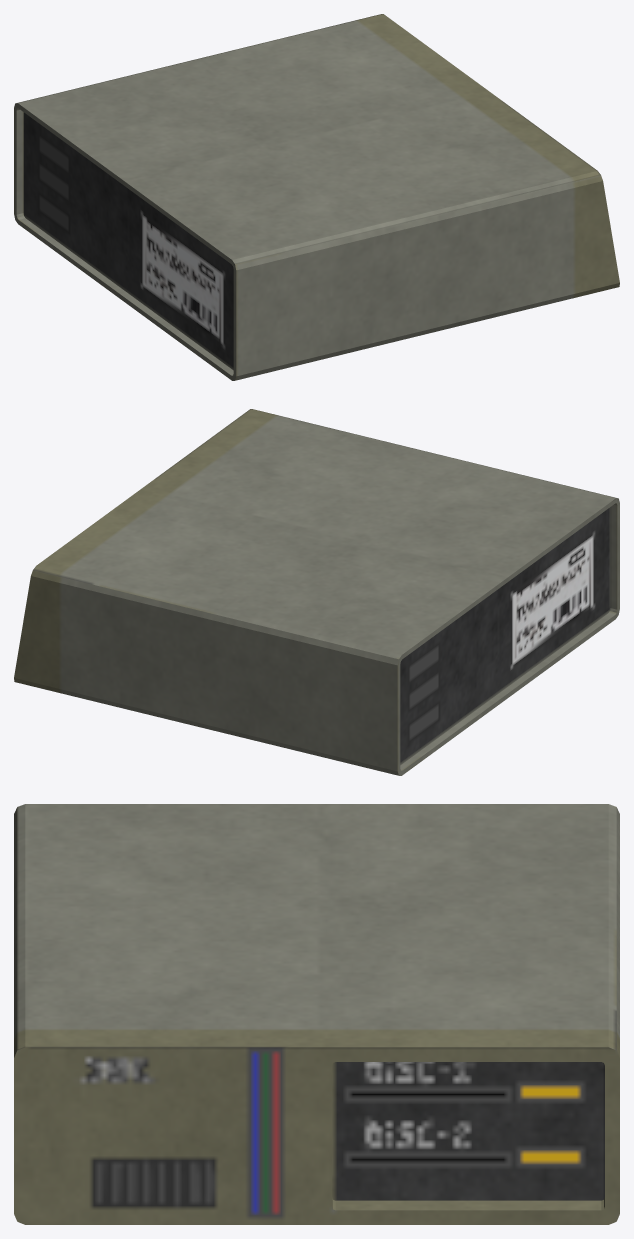
The model's file is updated_pc_case.fbx.
3 views of the same model, one above another, from view 1: azimuth 30°, elevation 25°; view 2: azimuth 150°, elevation 25°; view 3: azimuth 270°, elevation 25° (orthographic). The views are drawn at different scales.
Parts seen in each view (by area): view 1: case; view 2: case; view 3: case.
Boxes of the visible parts, <box> form: case: <box>14,14,619,380</box>; case: <box>14,409,619,775</box>; case: <box>14,804,619,1224</box>.
Size of the model in its own units: 200 by 60 by 200.
